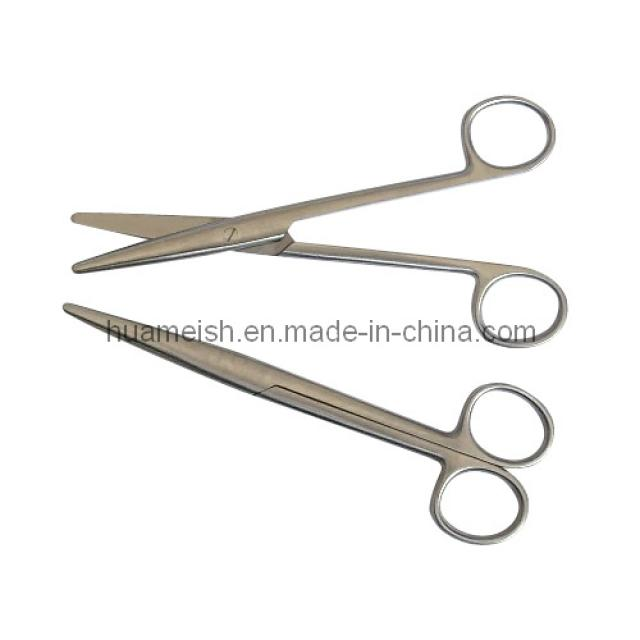B3: (50, 87, 610, 353)
